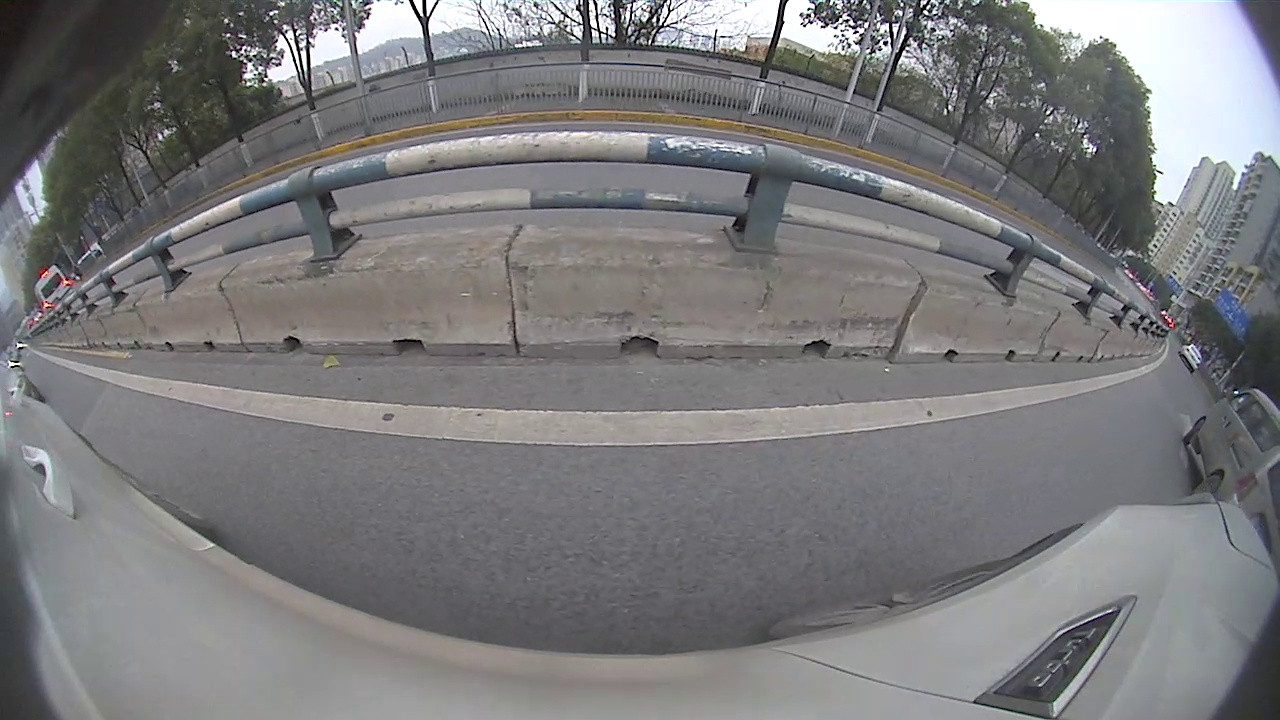car: (1184, 378, 1279, 556)
front: (1183, 413, 1208, 441)
rear: (1190, 473, 1222, 501)
